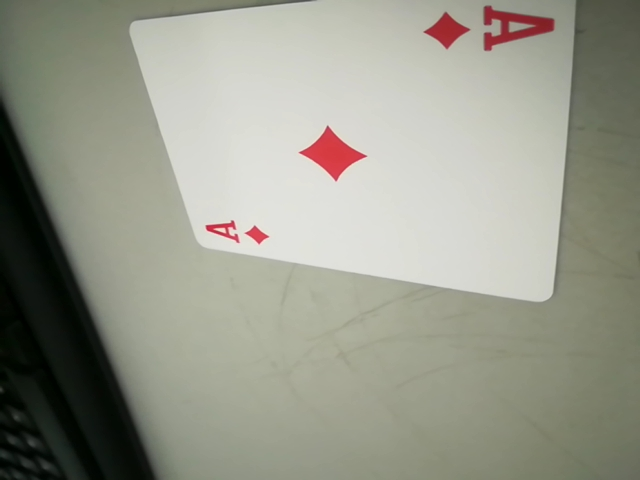fk a: (420, 2, 555, 57), (200, 211, 276, 250)
